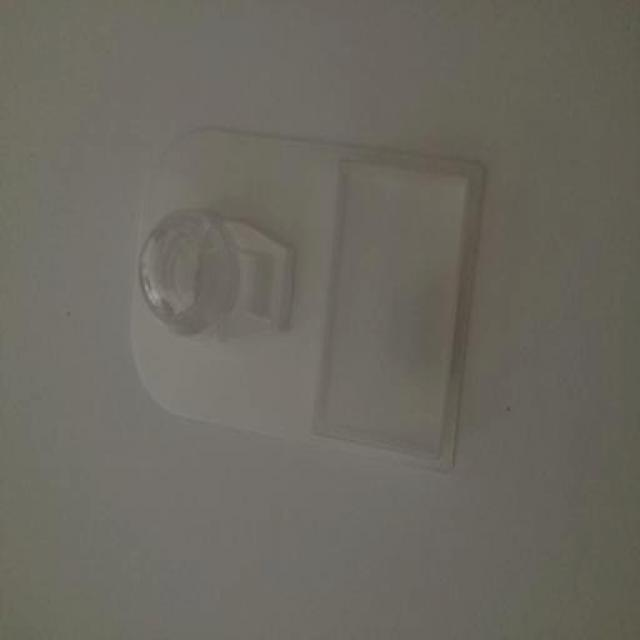Trash: (136, 126, 480, 477)
